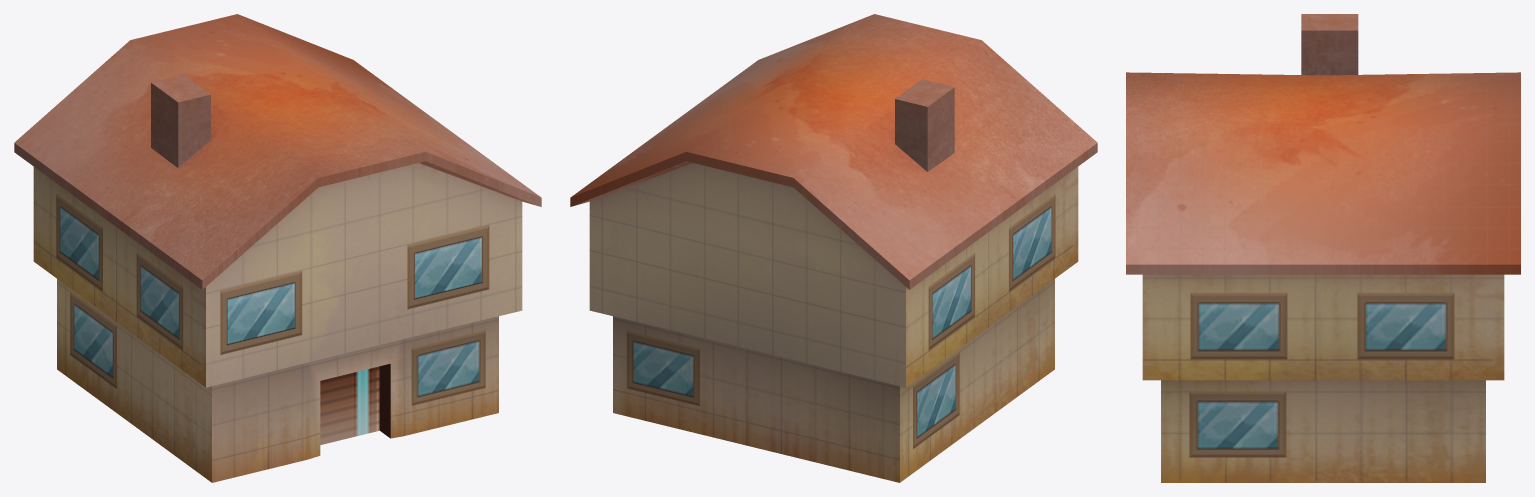
File: House_v02.fbx
3 renders of one model, left to right at view 1: azimuth 30°, elevation 25°; view 2: azimuth 150°, elevation 25°; view 3: azimuth 270°, elevation 25°, orthographic. The views are drawn at different scales.
Visible parts, largest first — view 1: House_v02; view 2: House_v02; view 3: House_v02.
Part boxes in pixels (x1,y1,x2,y2): House_v02: [14, 14, 541, 482]; House_v02: [570, 14, 1097, 482]; House_v02: [1126, 14, 1520, 482].
Bounding box in the file's own units: 3.96 × 3.6 × 3.8.
